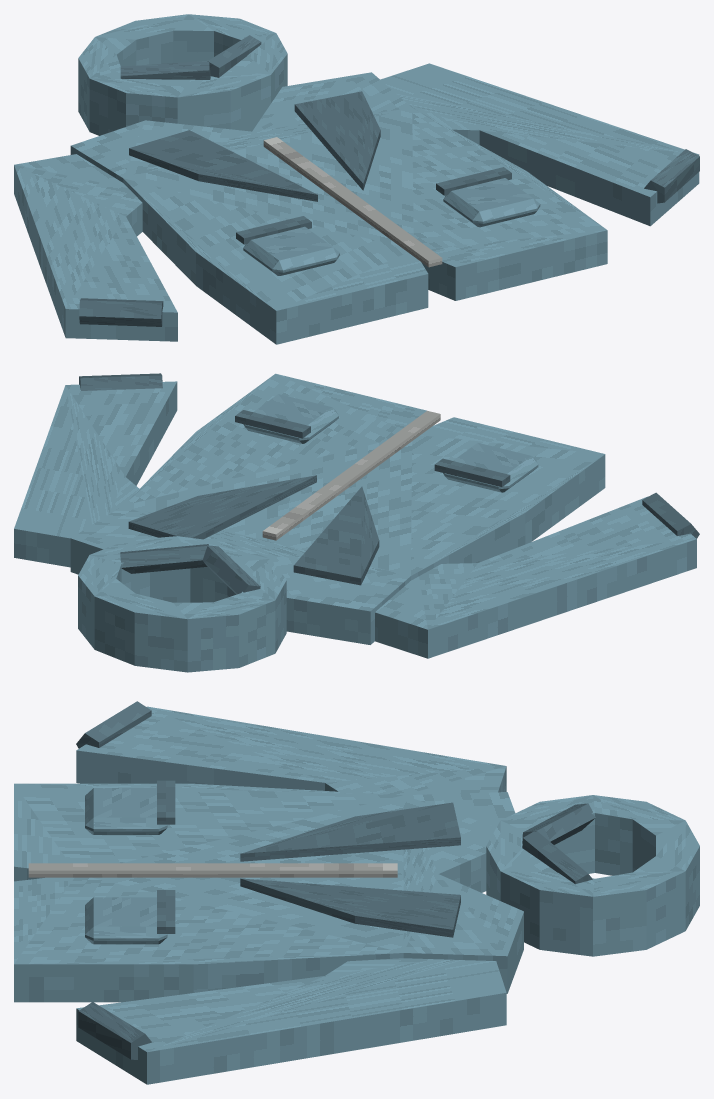
Rendered from coat_light_winter.glb.
3 renders of one model, top to bottom at view 1: azimuth 30°, elevation 25°; view 2: azimuth 150°, elevation 25°; view 3: azimuth 270°, elevation 25°, orthographic. The views are drawn at different scales.
Visible parts, largest first — view 1: block_coat body, block_sleeve (×2), block_hood, block_lapel (×2), block_patch pocket (×2), block_cuff 0 (×2), block_zipper track, block_pocket welt (×2), block_hood facing 0, block_hood facing 1; view 2: block_coat body, block_sleeve (×2), block_hood, block_lapel (×2), block_patch pocket (×2), block_zipper track, block_cuff 0 (×2), block_pocket welt (×2), block_hood facing 1, block_hood facing 0; view 3: block_coat body, block_sleeve (×2), block_hood, block_lapel (×2), block_patch pocket (×2), block_zipper track, block_cuff 0 (×2), block_pocket welt (×2), block_hood facing 1, block_hood facing 0.
Part boxes in pixels (x1,y1,x2,y2): block_coat body: [70, 72, 607, 344]; block_sleeve (×2): [14, 63, 699, 341]; block_hood: [78, 14, 287, 135]; block_lapel (×2): [129, 91, 380, 201]; block_patch pocket (×2): [243, 178, 540, 275]; block_cuff 0 (×2): [79, 149, 699, 326]; block_zipper track: [263, 137, 442, 267]; block_pocket welt (×2): [236, 167, 511, 244]; block_hood facing 0: [120, 60, 210, 79]; block_hood facing 1: [207, 35, 261, 77]; block_coat body: [70, 373, 605, 644]; block_sleeve (×2): [14, 381, 696, 658]; block_hood: [78, 536, 286, 672]; block_lapel (×2): [128, 475, 379, 585]; block_patch pocket (×2): [243, 394, 538, 492]; block_zipper track: [262, 410, 440, 540]; block_cuff 0 (×2): [79, 373, 699, 538]; block_pocket welt (×2): [235, 410, 510, 486]; block_hood facing 1: [120, 544, 208, 573]; block_hood facing 0: [202, 545, 260, 594]; block_coat body: [14, 783, 523, 1002]; block_sleeve (×2): [76, 706, 506, 1084]; block_hood: [486, 795, 699, 956]; block_lapel (×2): [240, 802, 460, 937]; block_patch pocket (×2): [85, 788, 167, 944]; block_zipper track: [28, 863, 397, 877]; block_cuff 0 (×2): [76, 701, 151, 1059]; block_pocket welt (×2): [157, 780, 175, 933]; block_hood facing 1: [522, 830, 592, 884]; block_hood facing 0: [522, 803, 595, 844].
Bounding box in the file's own units: 0.6131 × 0.0672 × 0.514.
1 material, 1 textured.
